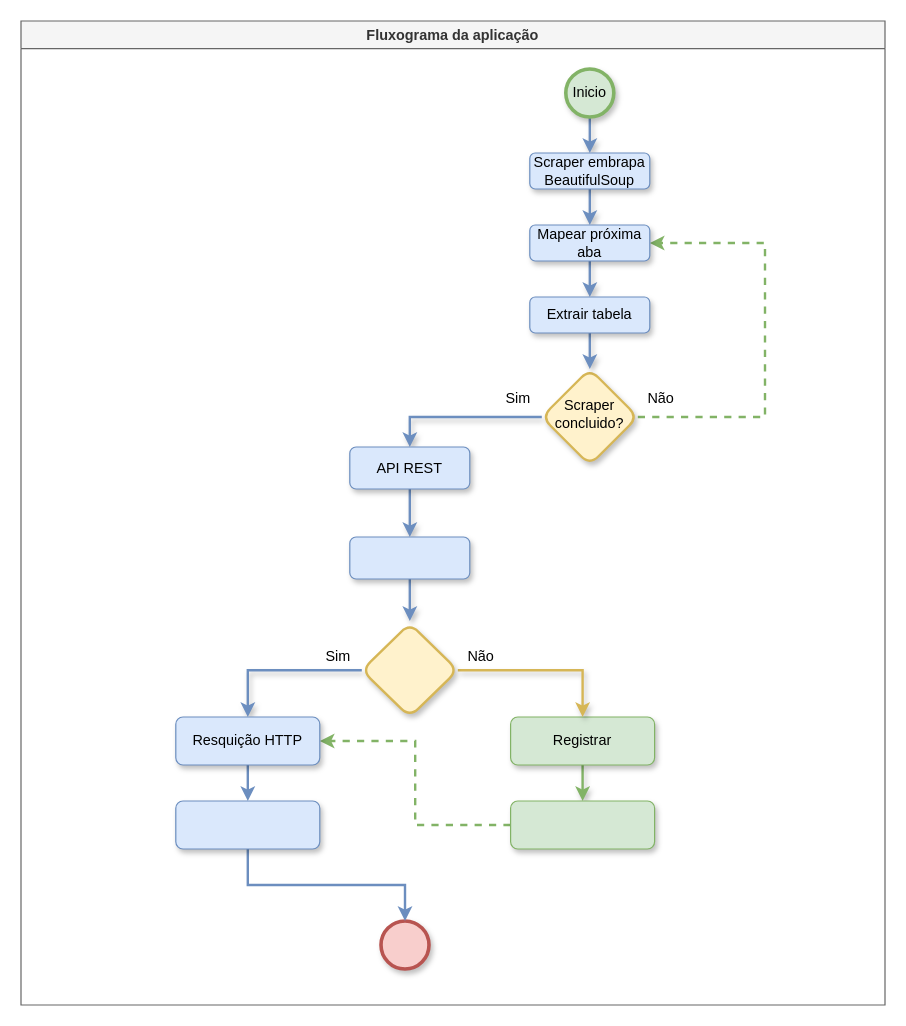
The diagram is 906 pixels wide and 1026 high, and some of its shapes have lost their labels. Each missing label, with the centre of its shape:
"Conexão bem sucedida?" goes at (410,671).
"Dashboard" goes at (248,826).
"Fallback (CSV)" goes at (583,826).
"Fim" goes at (405,946).
"Ler tabela" goes at (410,559).
